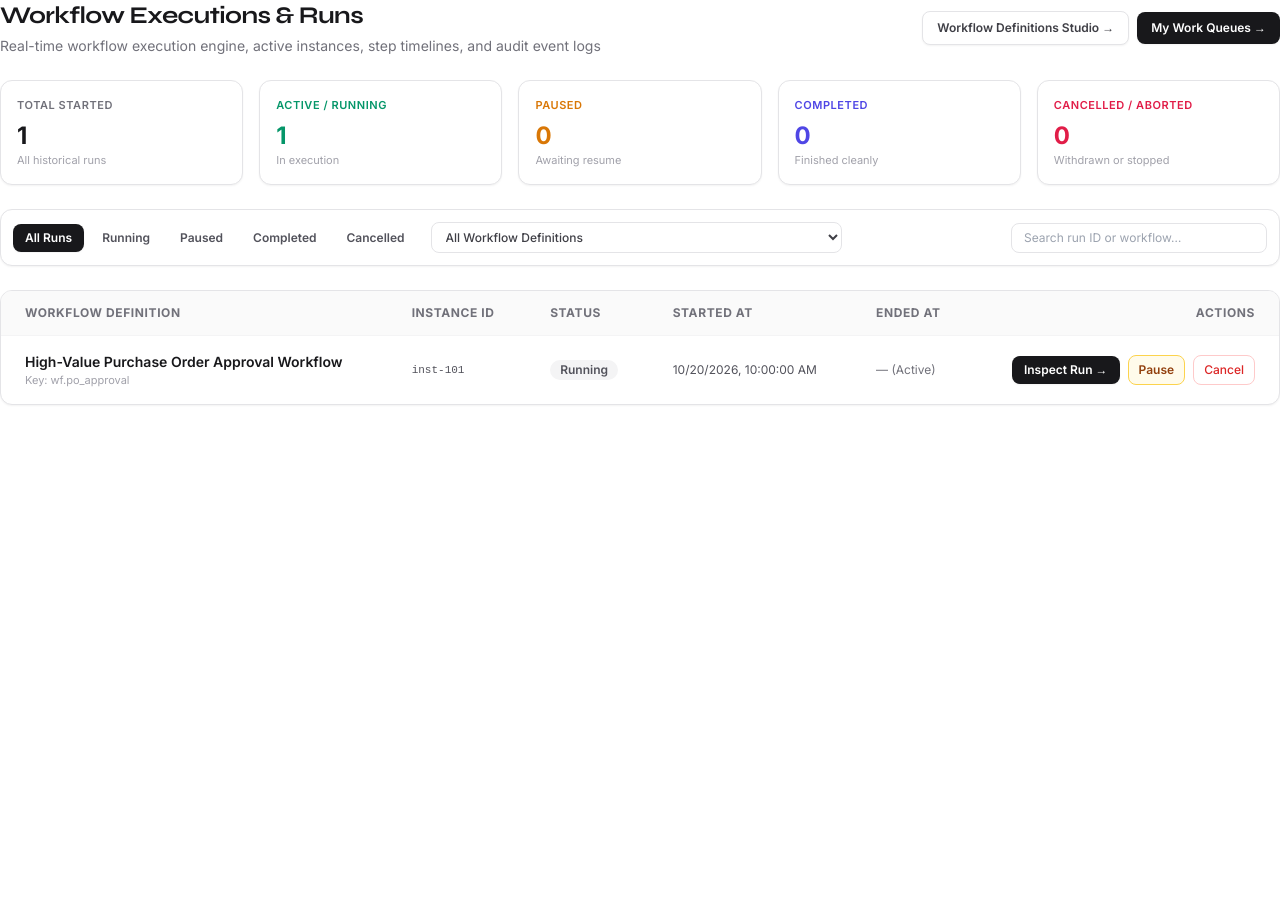
Test: WorkflowInstancesPage › opens the inspection modal and shows steps timeline and event log
This screenshot has width=1280, height=900.
Click the button "Inspect Run →": (1066, 370) [1012,356,1120,384]
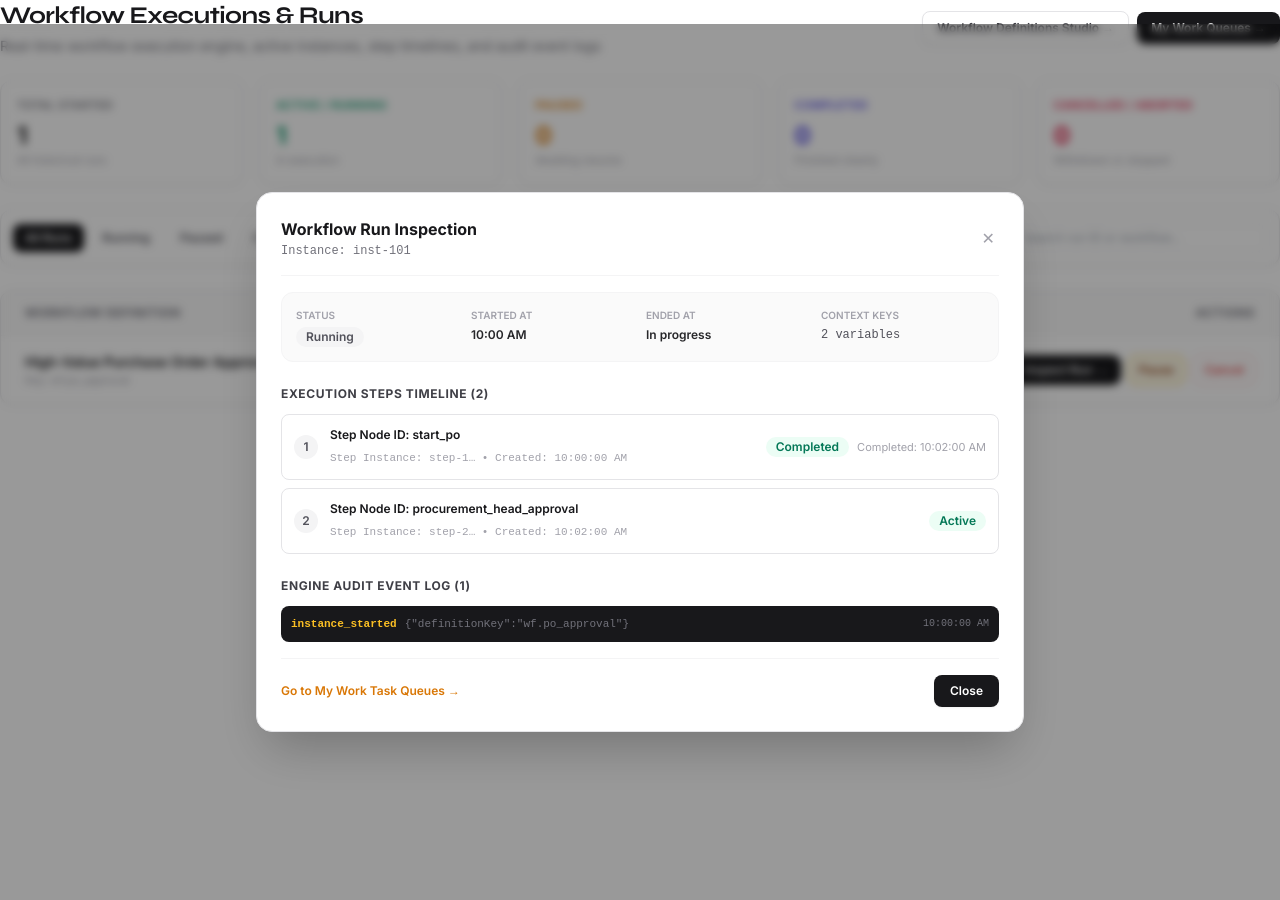
Expected: the heading "Workflow Run Inspection" is shown, [281,217,477,241]
Expected: the text "Step Node ID: start_po" is shown, [330,427,460,442]
Expected: the text "Step Node ID: procurement_head_approval" is shown, [330,501,578,516]
